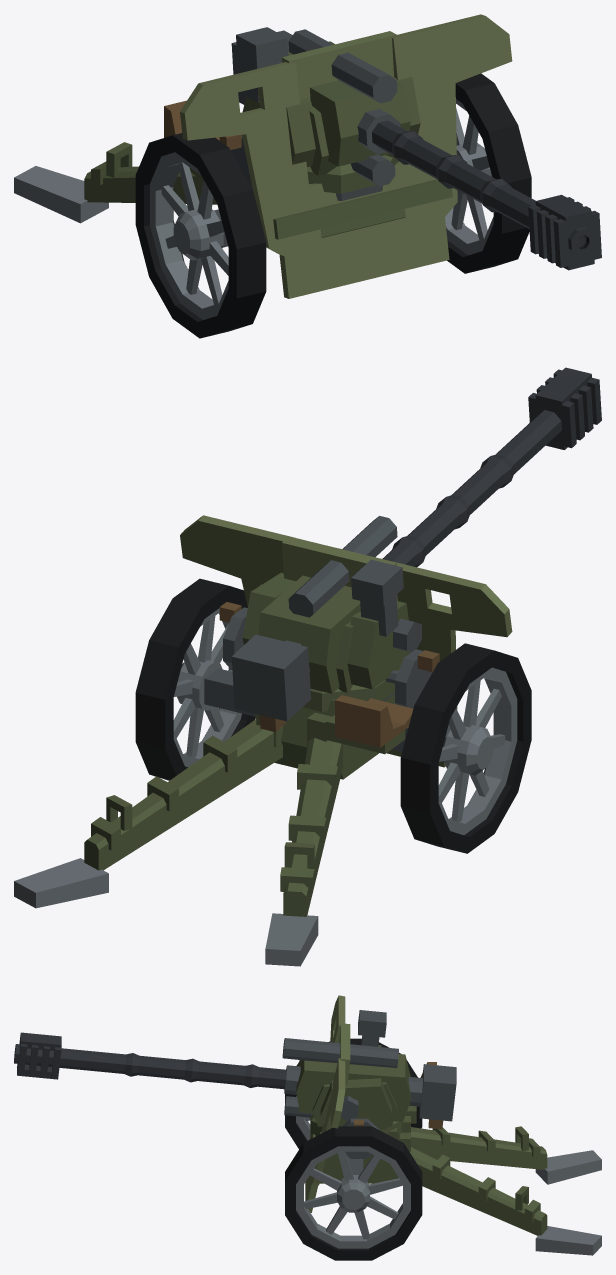
The model's file is howitzer.glb.
3 views of the same model, one above another, from view 1: azimuth 30°, elevation 25°; view 2: azimuth 150°, elevation 25°; view 3: azimuth 270°, elevation 25° (orthographic). The views are drawn at different scales.
Visible parts, largest first — view 1: shield-plate, wheel-l-mesh, gun-cradle, gun-barrel, wheel-r-mesh, trail-l-mesh, top-carriage, gun-carriage; view 2: wheel-l-mesh, gun-barrel, top-carriage, gun-cradle, wheel-r-mesh, trail-r-mesh, shield-plate, trail-l-mesh, gun-carriage; view 3: wheel-r-mesh, gun-barrel, gun-cradle, trail-r-mesh, trail-l-mesh, top-carriage, shield-plate, gun-carriage, wheel-l-mesh.
Boxes of the visible parts, x1=… form: shield-plate: x1=180, y1=14, x2=512, y2=298; wheel-l-mesh: x1=135, y1=133, x2=266, y2=338; gun-cradle: x1=236, y1=27, x2=410, y2=186; gun-barrel: x1=231, y1=30, x2=601, y2=270; wheel-r-mesh: x1=445, y1=73, x2=531, y2=273; trail-l-mesh: x1=14, y1=142, x2=217, y2=223; top-carriage: x1=164, y1=77, x2=420, y2=193; gun-carriage: x1=214, y1=163, x2=405, y2=247; wheel-l-mesh: x1=400, y1=643, x2=531, y2=853; gun-barrel: x1=231, y1=367, x2=601, y2=732; top-carriage: x1=219, y1=572, x2=439, y2=754; gun-cradle: x1=258, y1=516, x2=403, y2=693; wheel-r-mesh: x1=135, y1=578, x2=255, y2=780; trail-r-mesh: x1=14, y1=719, x2=282, y2=908; shield-plate: x1=180, y1=515, x2=512, y2=767; trail-l-mesh: x1=265, y1=738, x2=342, y2=966; gun-carriage: x1=204, y1=668, x2=450, y2=779; wheel-r-mesh: x1=285, y1=1126, x2=422, y2=1260; gun-barrel: x1=14, y1=1032, x2=456, y2=1129; gun-cradle: x1=282, y1=1010, x2=410, y2=1121; trail-r-mesh: x1=409, y1=1147, x2=601, y2=1255; trail-l-mesh: x1=411, y1=1126, x2=601, y2=1184; top-carriage: x1=311, y1=1045, x2=436, y2=1158; shield-plate: x1=305, y1=995, x2=345, y2=1212; gun-carriage: x1=315, y1=1116, x2=410, y2=1183; wheel-l-mesh: x1=285, y1=1038, x2=422, y2=1149.
Size of the model in its own units: 1.86 by 1.43 by 4.3.
